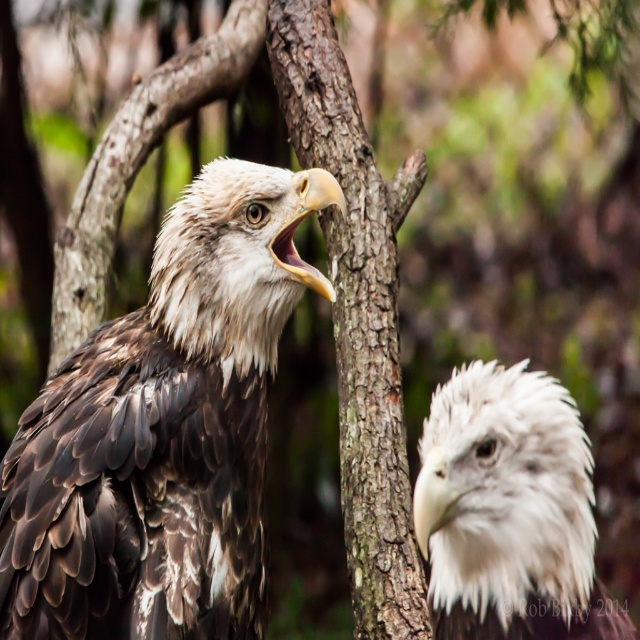Eagle: (0, 152, 348, 639), (413, 353, 639, 639)
